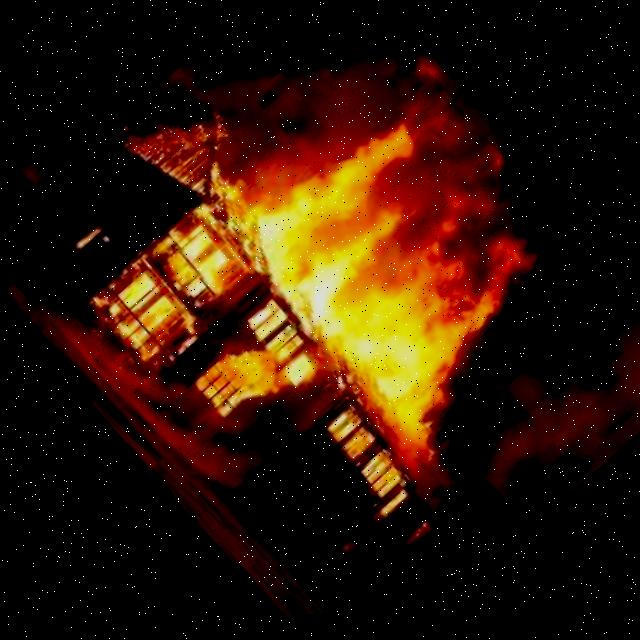Fire: (200, 49, 582, 467), (177, 328, 288, 440), (146, 214, 242, 318), (93, 264, 179, 355), (320, 411, 378, 473), (354, 457, 408, 515), (256, 327, 305, 376), (242, 303, 286, 348), (280, 361, 315, 397)
